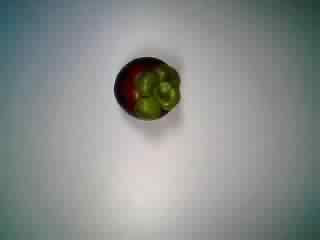mangosteen: (106, 50, 187, 125)
